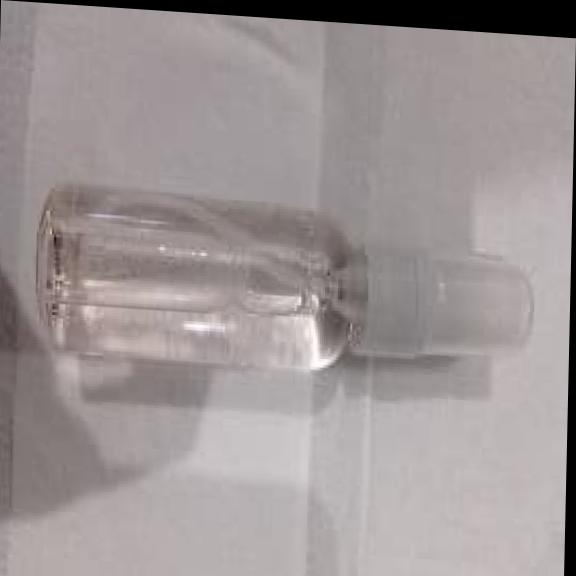Plastik: (38, 190, 531, 369)
